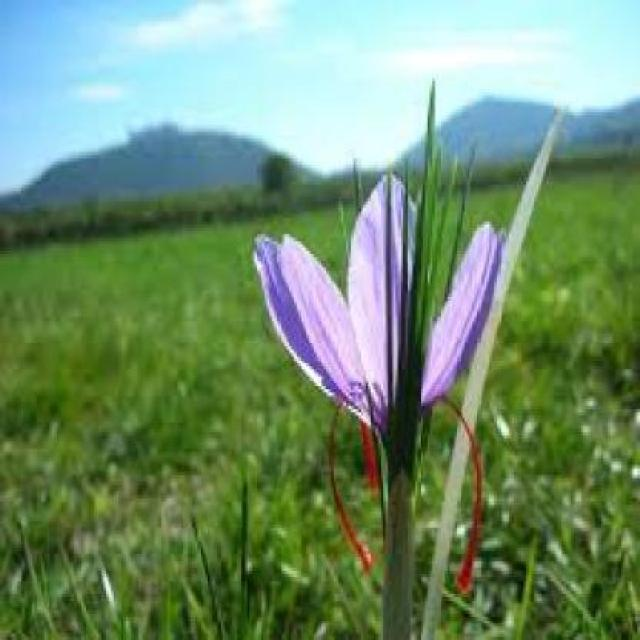saffron open: (256, 178, 503, 433)
